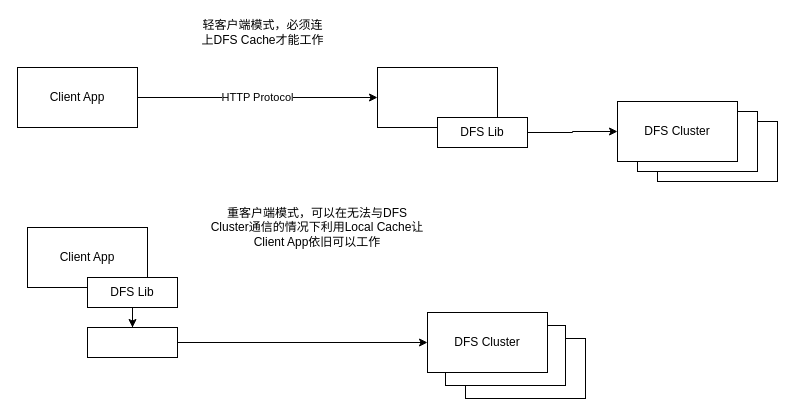
The diagram is 795 pixels wide and 416 high, and some of its shapes have lost their labels. Each missing label, with the centre of its shape:
Local Cache: the point at 132,342
Zone DFS Cache: the point at 437,97
